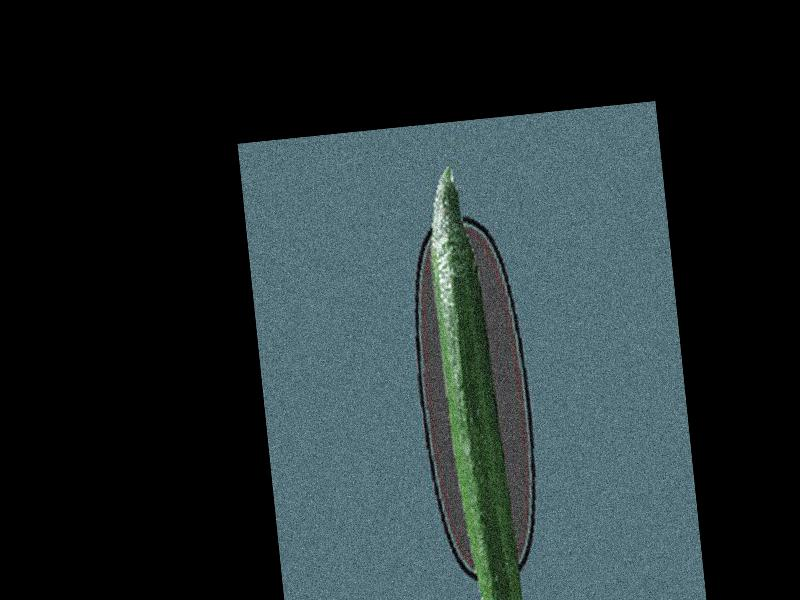Cucumber: (422, 163, 527, 600)
